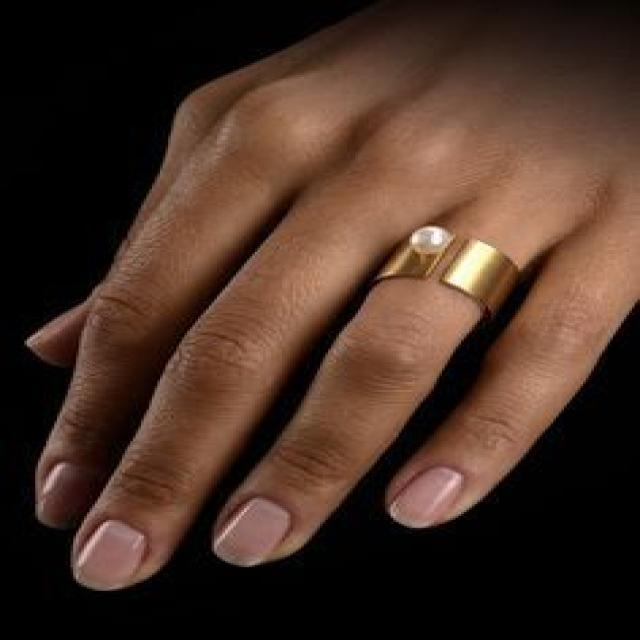Fingernail: (75, 516, 147, 591), (217, 495, 289, 567), (392, 464, 466, 530), (38, 461, 92, 526)
